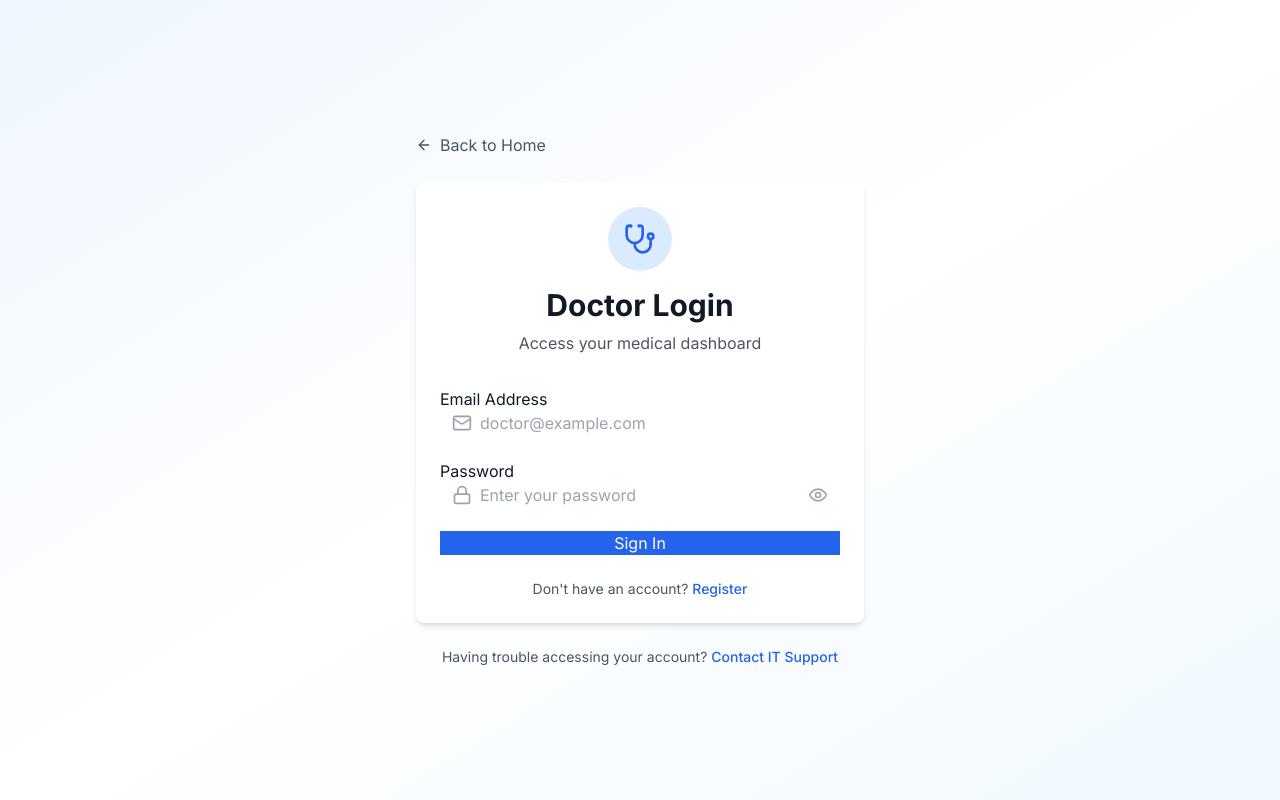
DoctorLogin (Req 7 - Security & Authentication) › Registration (Req 2 - Doctor users) › should switch to registration form when Register is clicked
The image size is (1280, 800).
Step 1. Click the button "Register" → click(720, 589), box [692,579,747,599]
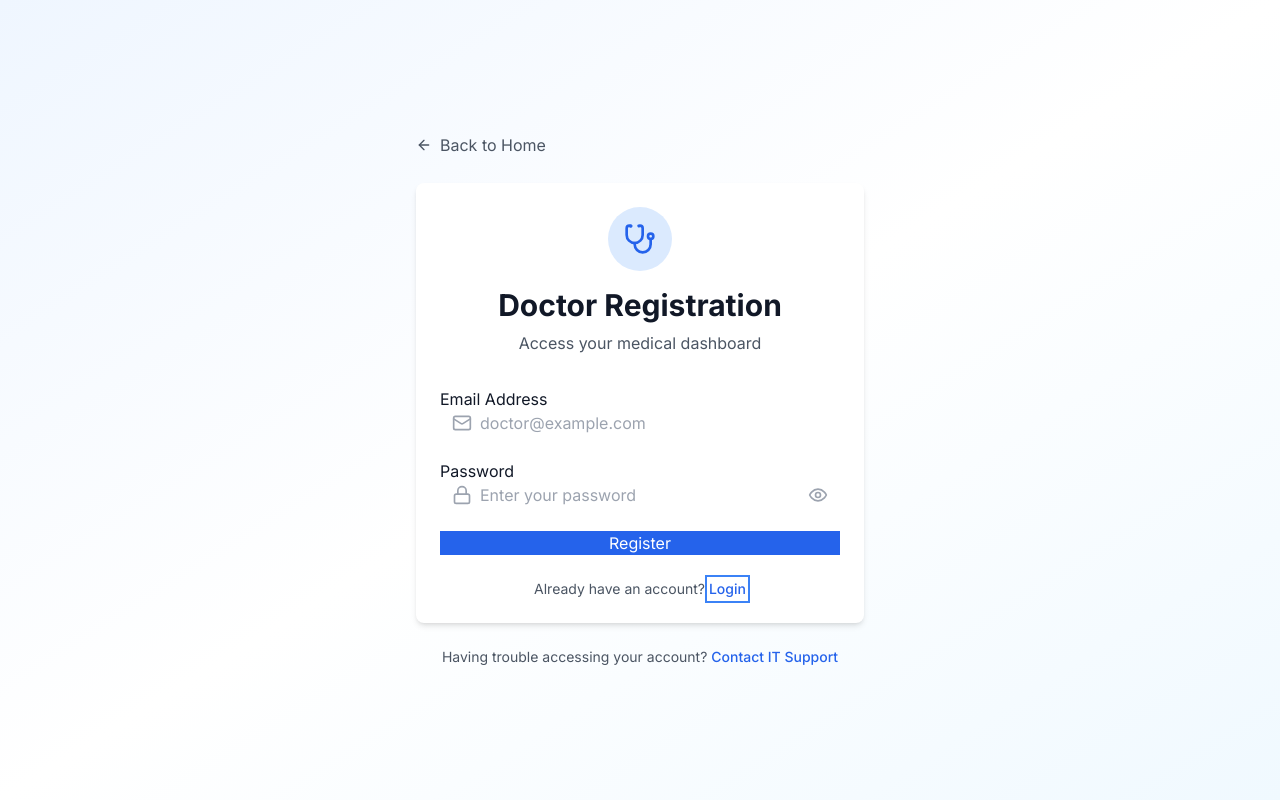
Result: the heading "Doctor Registration" is shown at [498,287,782,323]
Result: the text "Already have an account?" is shown at [534,580,705,597]
